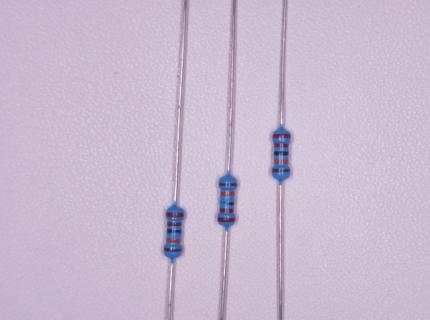Black band: (273, 150, 289, 157), (220, 201, 235, 206), (167, 229, 182, 234)
Brown band: (163, 247, 182, 253), (272, 167, 290, 173), (218, 182, 237, 187)
Orange band: (220, 191, 235, 197), (273, 159, 288, 164), (166, 238, 181, 243)
Red band: (217, 217, 236, 223), (165, 212, 184, 218), (273, 133, 291, 139), (219, 208, 235, 213), (274, 143, 289, 148), (167, 222, 181, 227)
